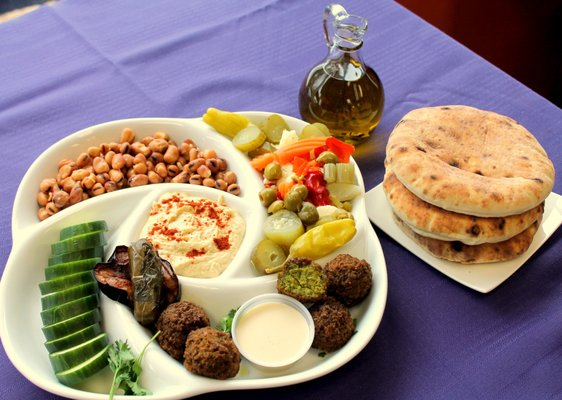soup: (382, 103, 556, 266)
sushi: (231, 293, 316, 371)
